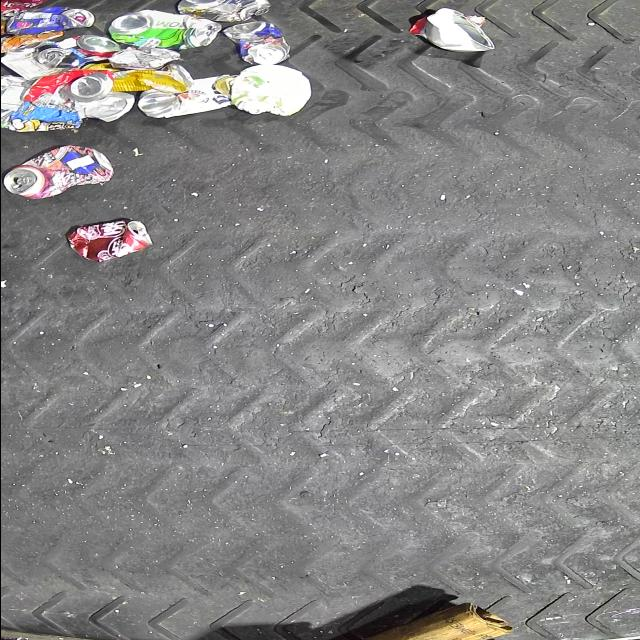can: (1, 146, 113, 200), (107, 10, 220, 50), (136, 75, 237, 119), (64, 218, 152, 262), (21, 70, 112, 112), (79, 64, 193, 94), (221, 21, 290, 65), (4, 6, 92, 34), (176, 0, 270, 22), (54, 34, 120, 64), (76, 92, 134, 122), (0, 75, 26, 126), (34, 44, 76, 70), (0, 0, 48, 22)
